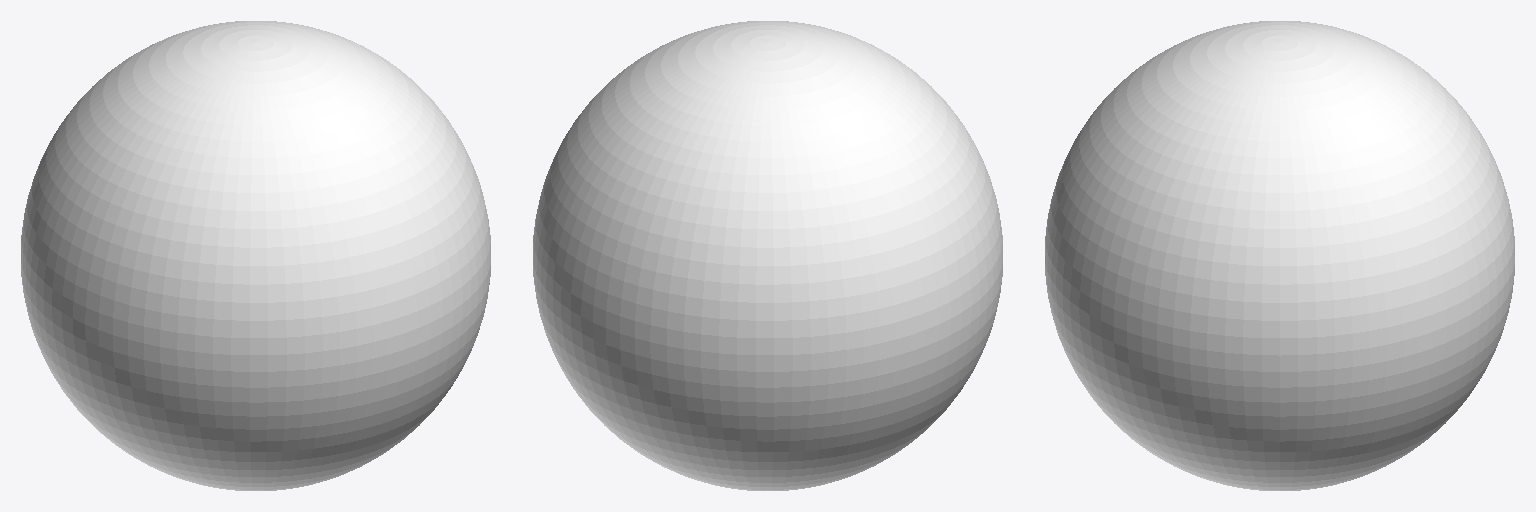
The model's file is ball.obj.
3 renders of one model, left to right at view 1: azimuth 30°, elevation 25°; view 2: azimuth 150°, elevation 25°; view 3: azimuth 270°, elevation 25°, orthographic.
Parts seen in each view (by area): view 1: Sphere002; view 2: Sphere002; view 3: Sphere002.
Boxes of the visible parts, <box> form: Sphere002: <box>21,21,490,490</box>; Sphere002: <box>533,21,1002,490</box>; Sphere002: <box>1045,21,1514,490</box>.
Bounding box in the file's own units: 53.87 × 53.87 × 53.87.